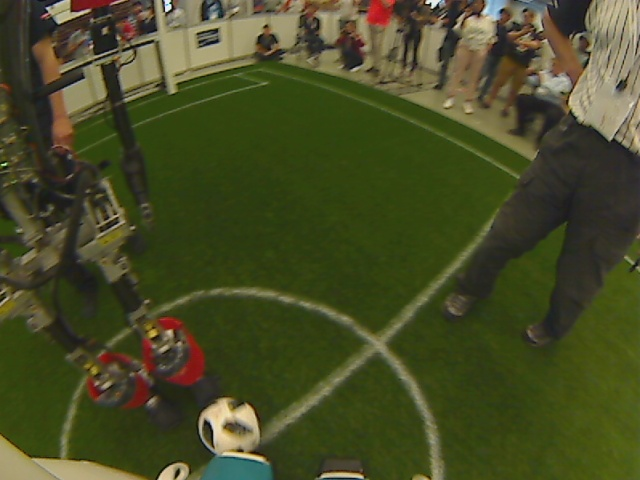ball: (193, 394, 264, 458)
